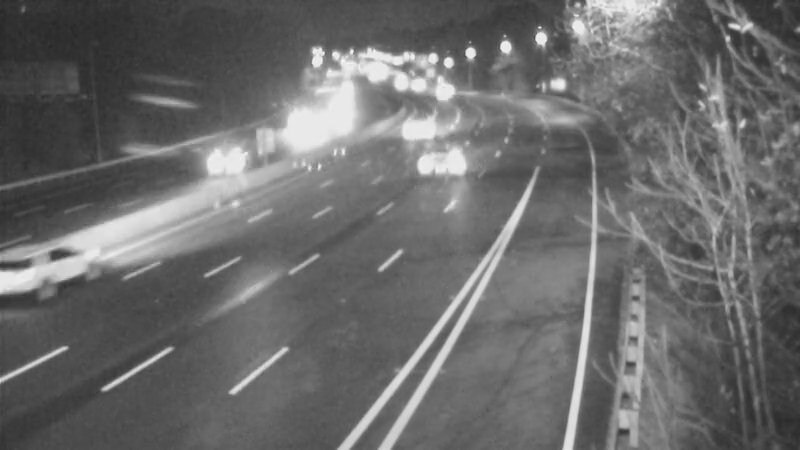vehicle: (412, 118, 492, 198), (177, 126, 257, 206), (1, 227, 77, 307), (414, 60, 464, 110), (399, 98, 449, 148), (281, 104, 331, 154), (316, 90, 366, 140)
